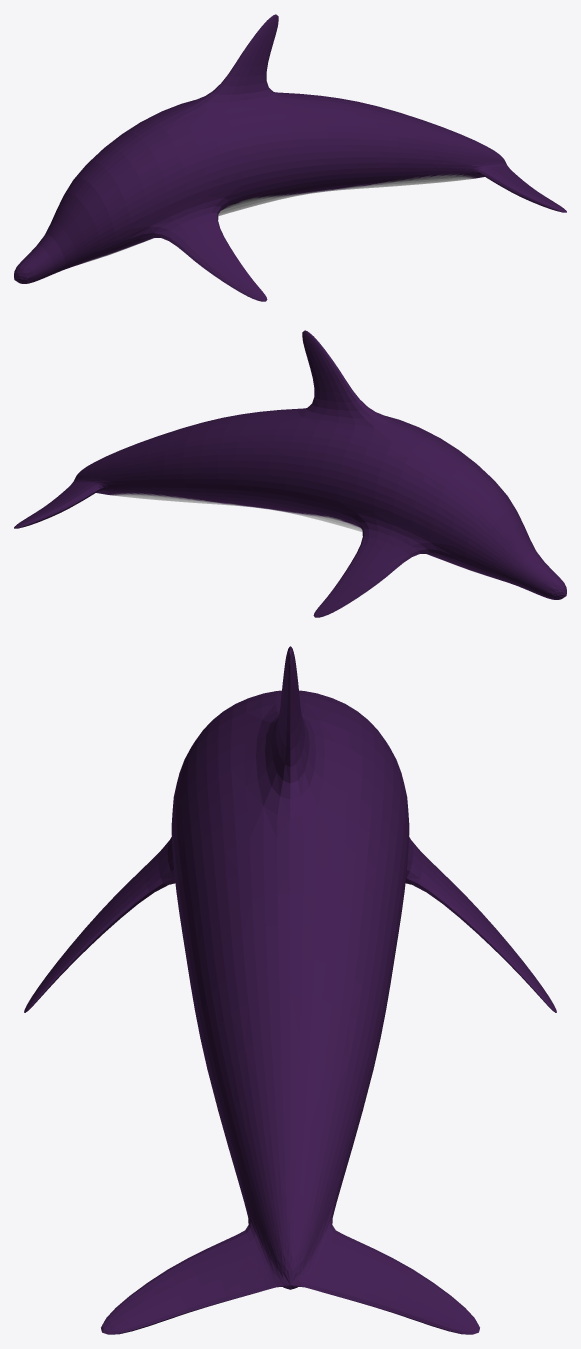
The model's file is m_delfin.obj.
The picture shows the model from 3 angles, top to bottom: view 1: azimuth 30°, elevation 25°; view 2: azimuth 150°, elevation 25°; view 3: azimuth 270°, elevation 25°; orthographic projection. The views are drawn at different scales.
Parts seen in each view (by area): view 1: Cylinder01; view 2: Cylinder01; view 3: Cylinder01.
Part boxes in pixels (x1,y1,x2,y2): Cylinder01: (14, 14, 566, 301); Cylinder01: (14, 330, 566, 617); Cylinder01: (24, 646, 556, 1334).
Bounding box in the file's own units: 7.15 × 3.02 × 3.25.
